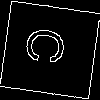C: (24, 25, 74, 68)
